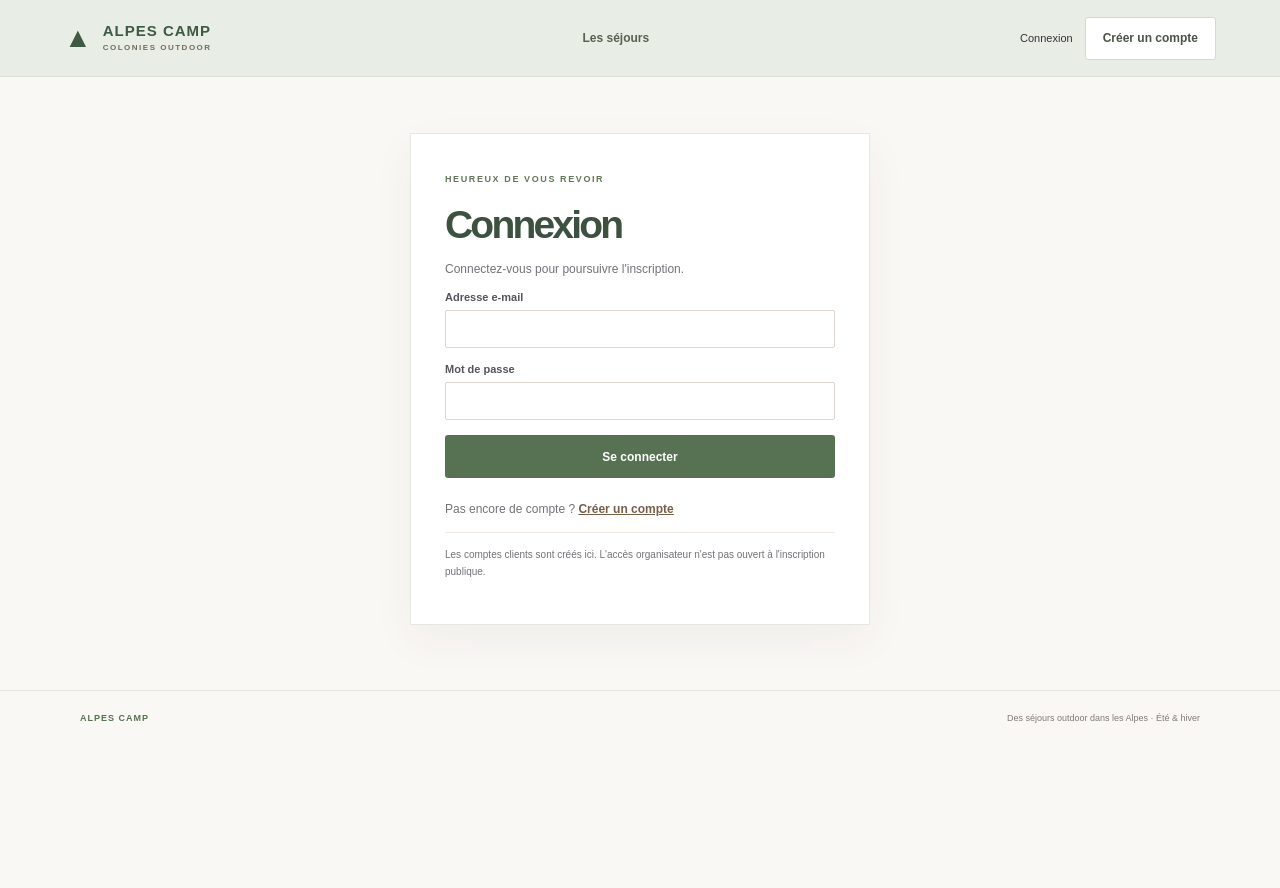
Test: application Alpes Camp › renvoie vers la connexion si la session expire lors de l'envoi
The image size is (1280, 888).
Type "parent@example.test" into the field labelled "Adresse e-mail" at (640, 329), box [445,310,835,348]
Type "mot-de-passe-test" into the password field labelled "Mot de passe" at (640, 401), box [445,382,835,420]
Click the button "Se connecter" at (640, 457), box [445,435,835,478]
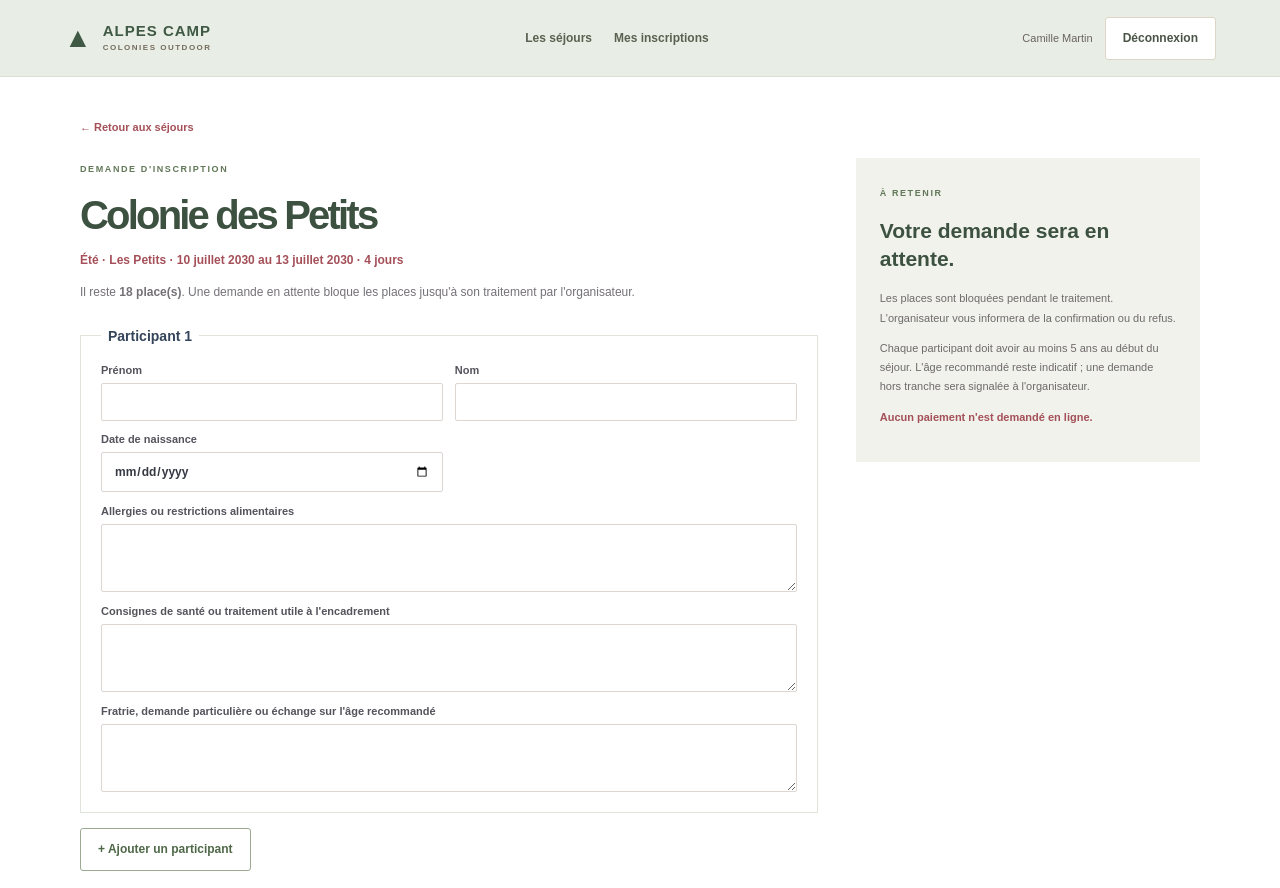
Expected: the heading "Colonie des Petits" is shown, [80,193,376,237]
Type "Lou" into the field labelled "Prénom" at (272, 402), box [101,383,443,421]
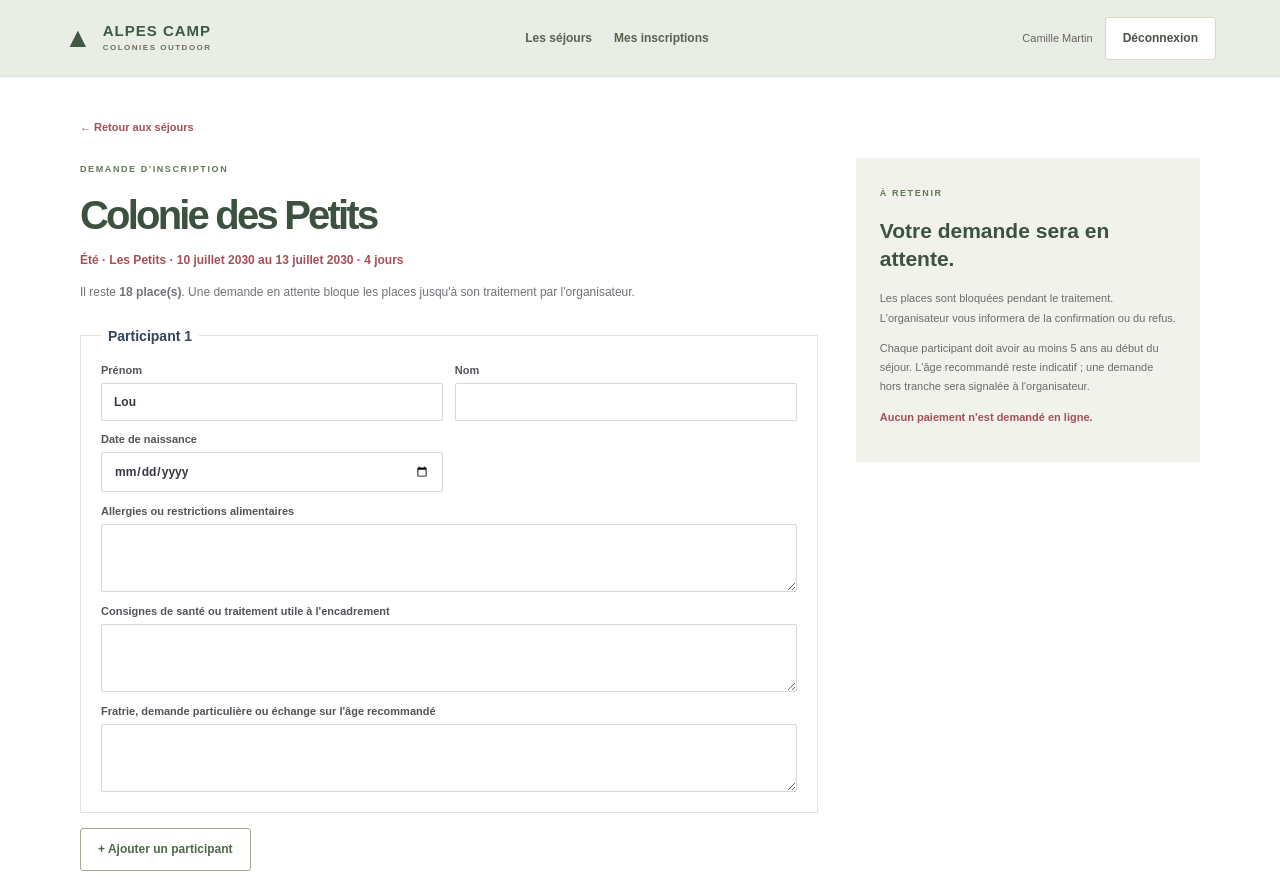
Type "Martin" into the field labelled "Nom" at (626, 402), box [455,383,797,421]
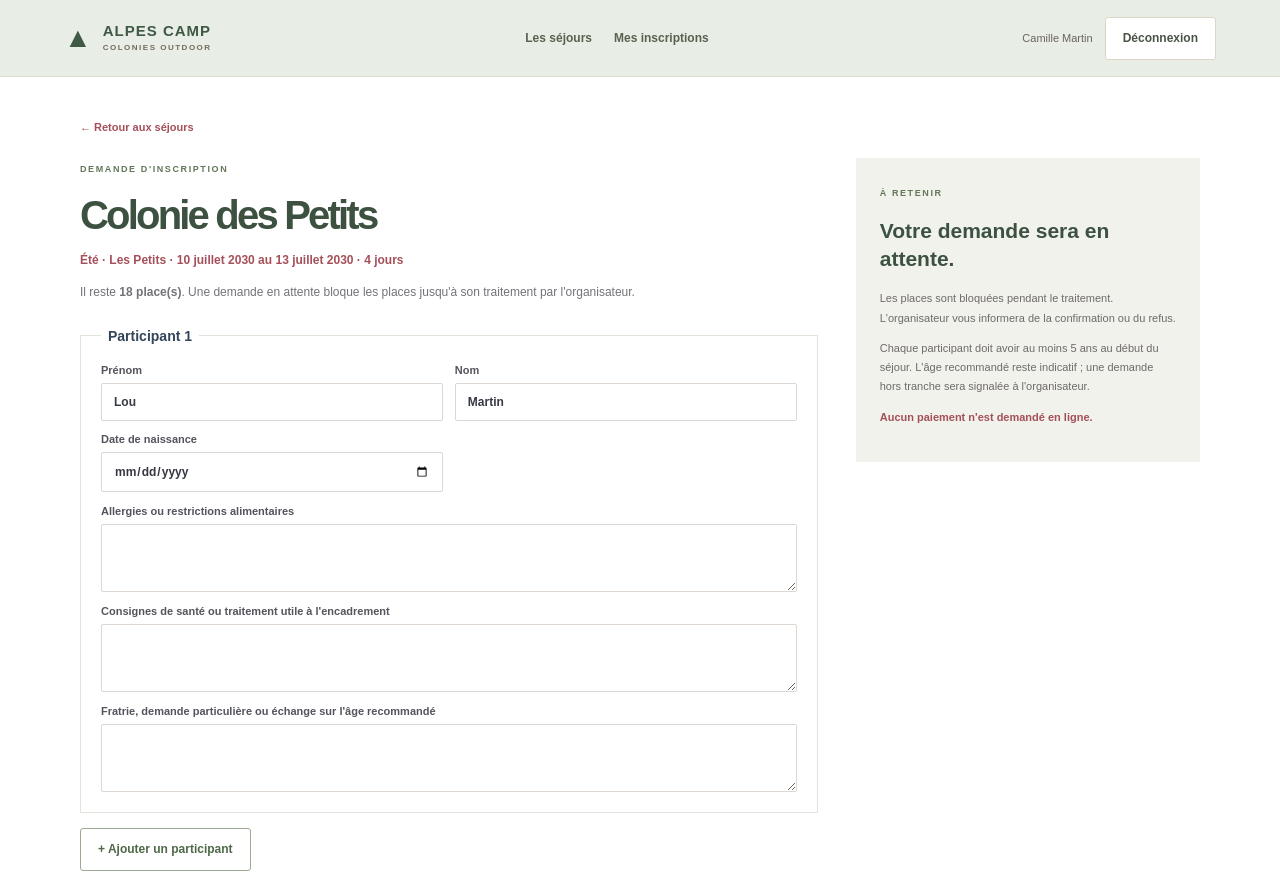
Type "2020-06-01" into the date field labelled "Date de naissance" at (272, 472), box [101,452,443,492]
(page scrolled)
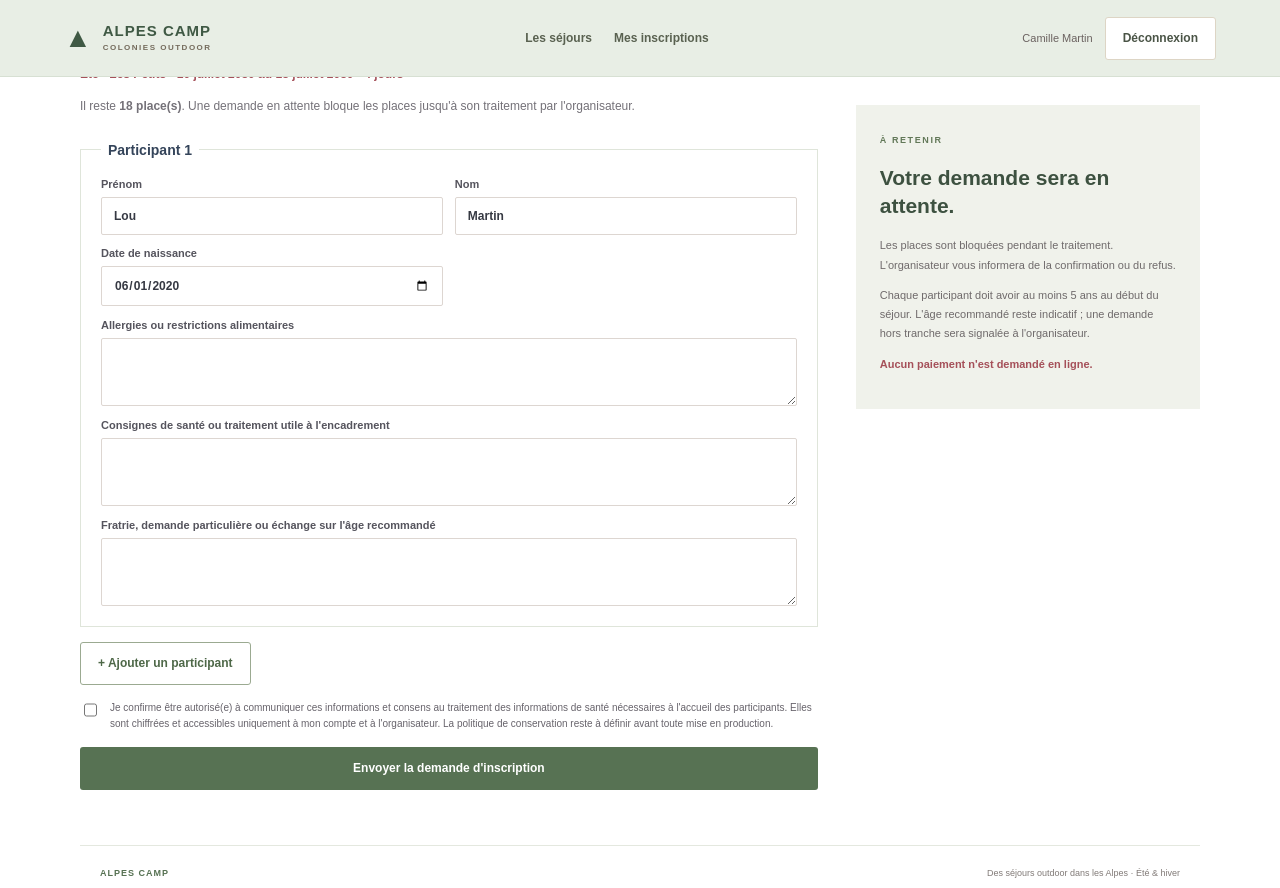
Click the checkbox at (90, 710), box [84,702,97,718]
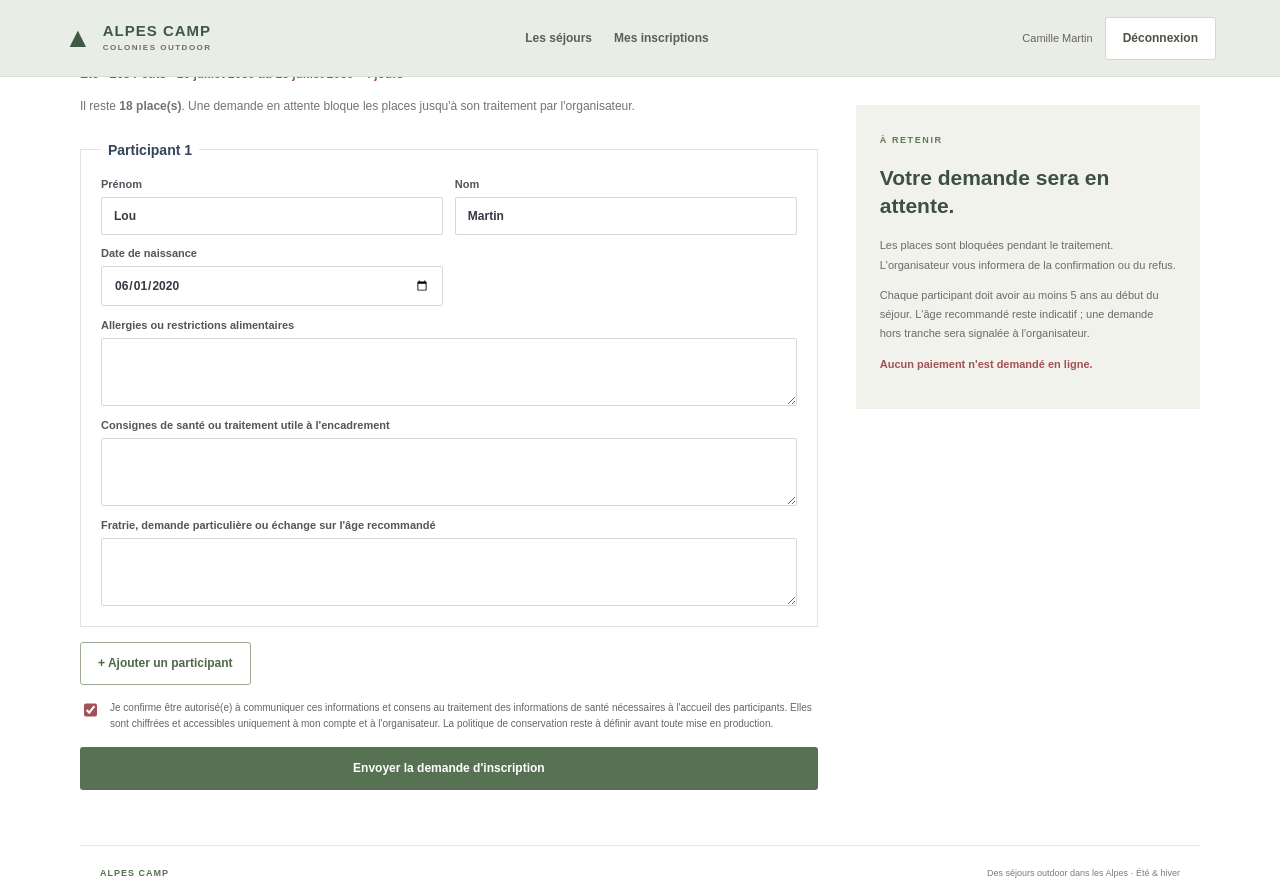
Click the button "Envoyer la demande d'inscription" at (449, 768), box [80,747,818,790]
(page scrolled)
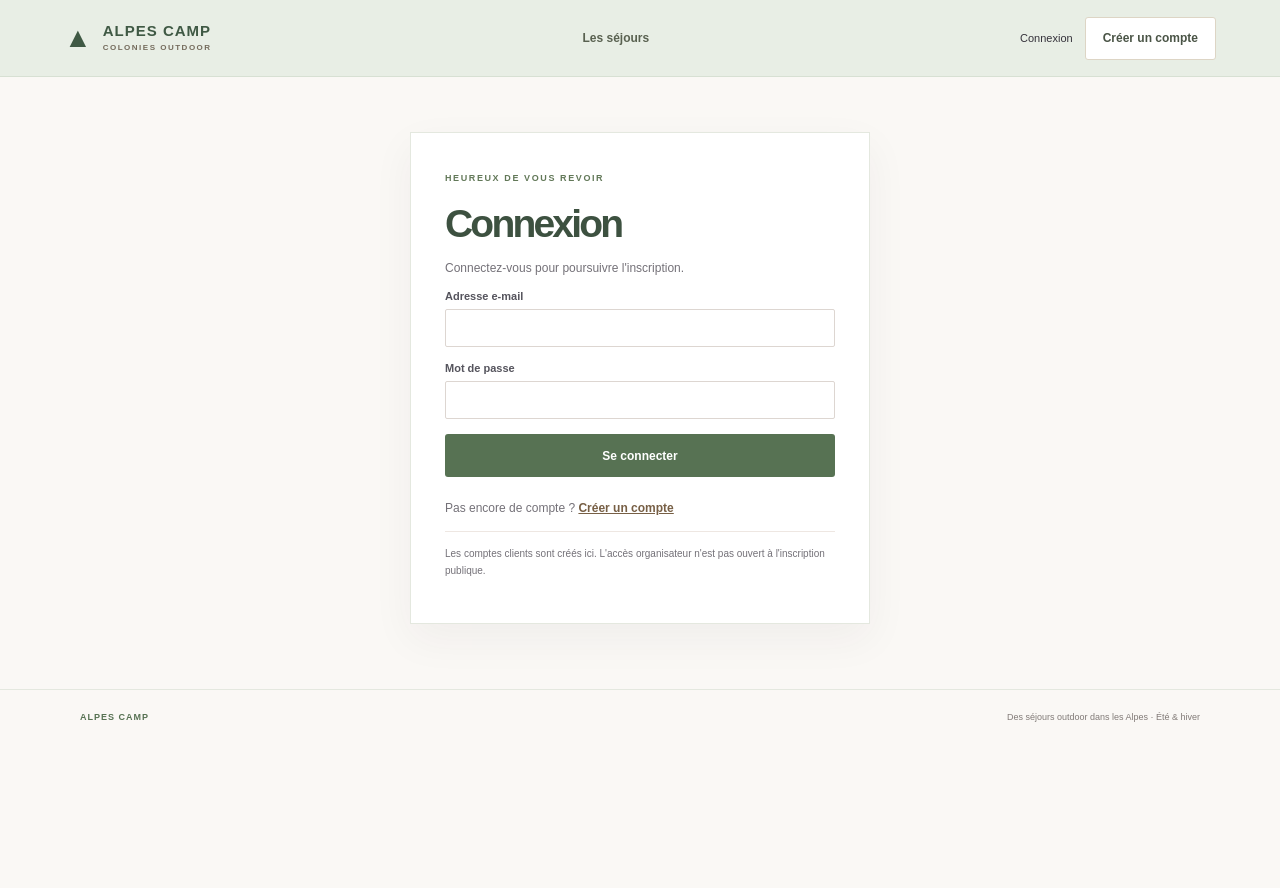
Expected: the heading "Connexion" is shown, [445,202,621,245]
